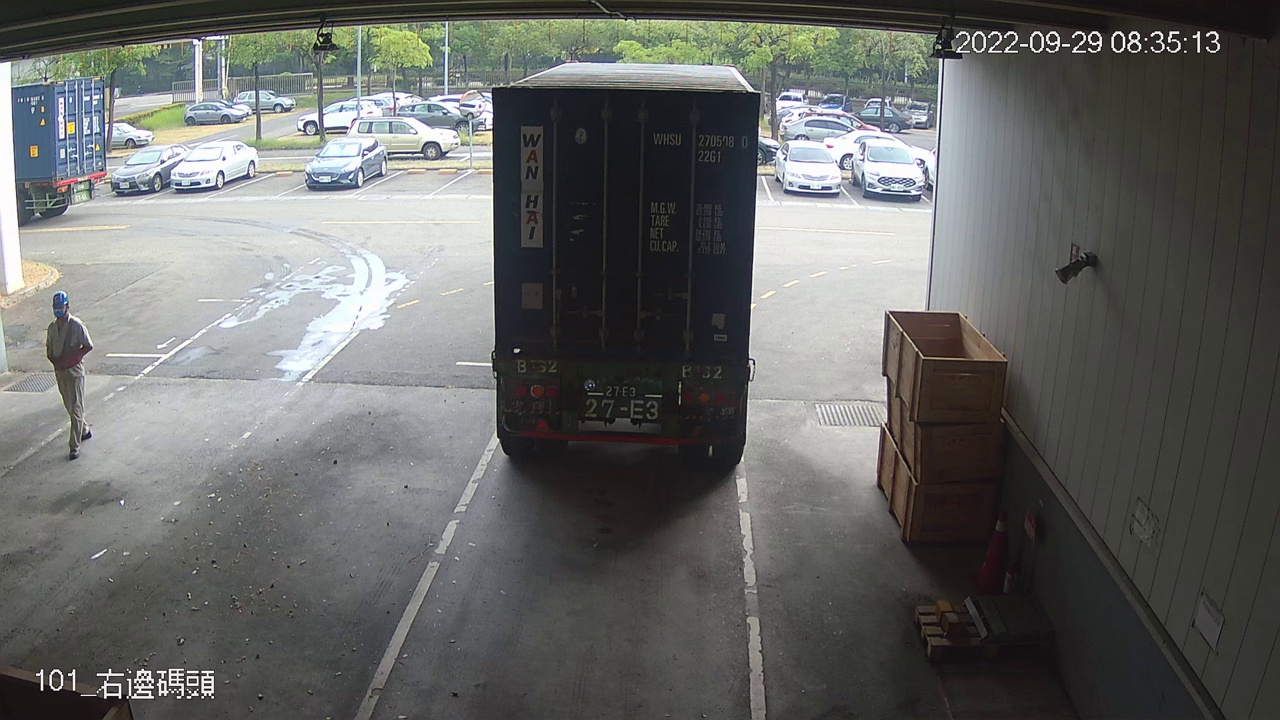container: (647, 126, 753, 171)
